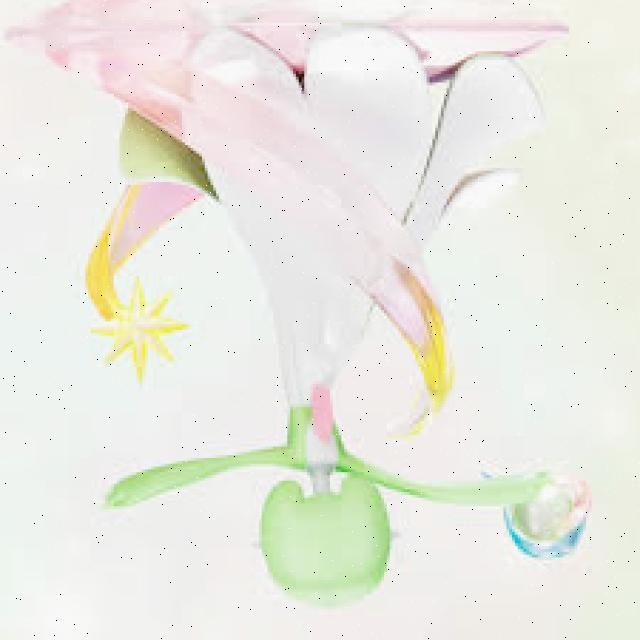gardevoir: (64, 43, 586, 615)
